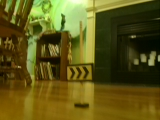right: (66, 64, 94, 81)
